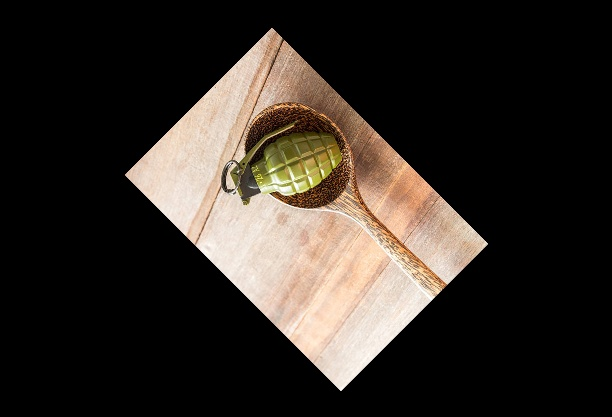e1: (220, 119, 346, 207)
